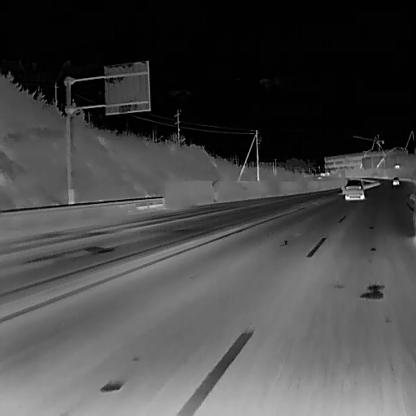car: (344, 178, 364, 200), (391, 176, 399, 186)
